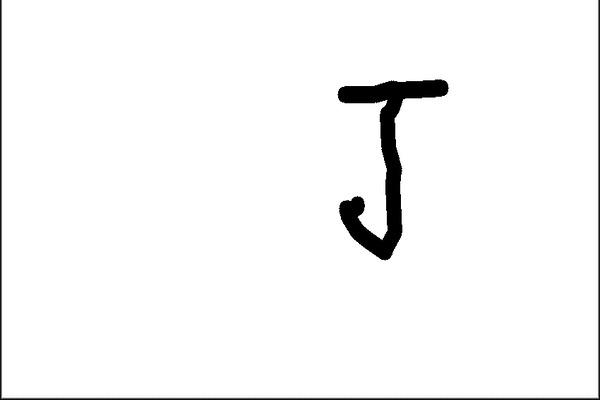J: (324, 71, 452, 264)
